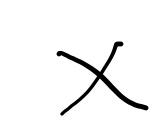mult: (55, 39, 148, 114)
